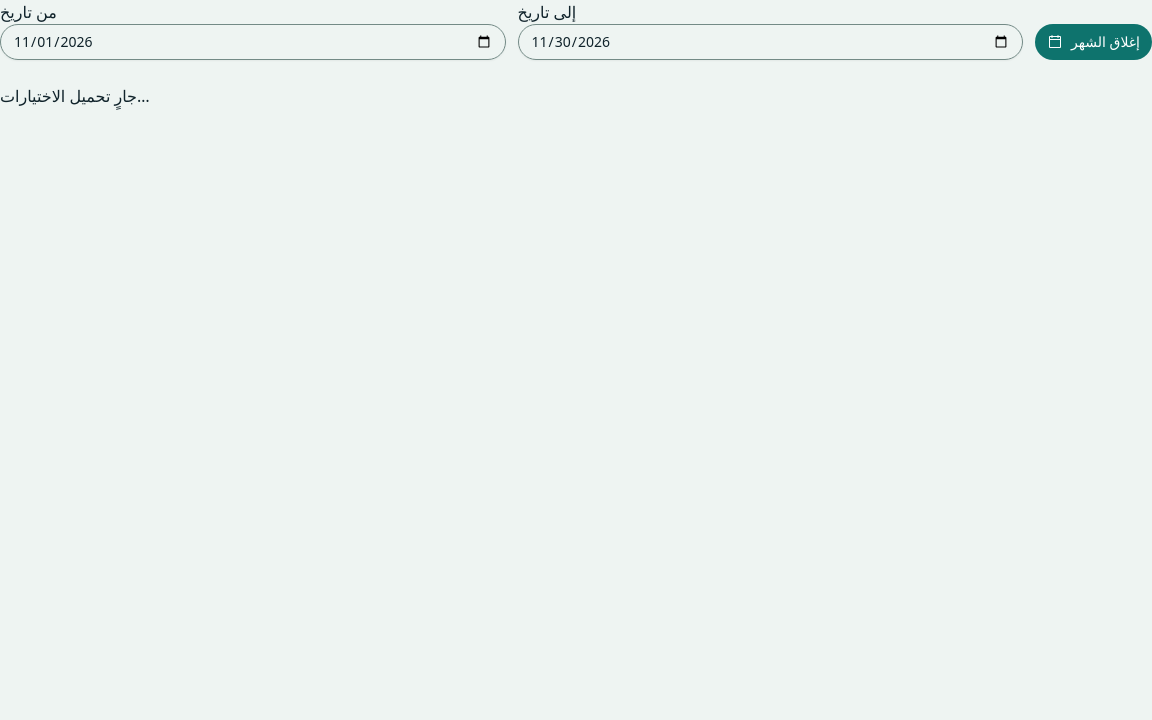
Test: closes an unfinished month only after typing the month and sends confirmUnfinishedMonth
Click the button "إغلاق الشهر". click: click(1094, 42)
box: [1035, 24, 1151, 60]
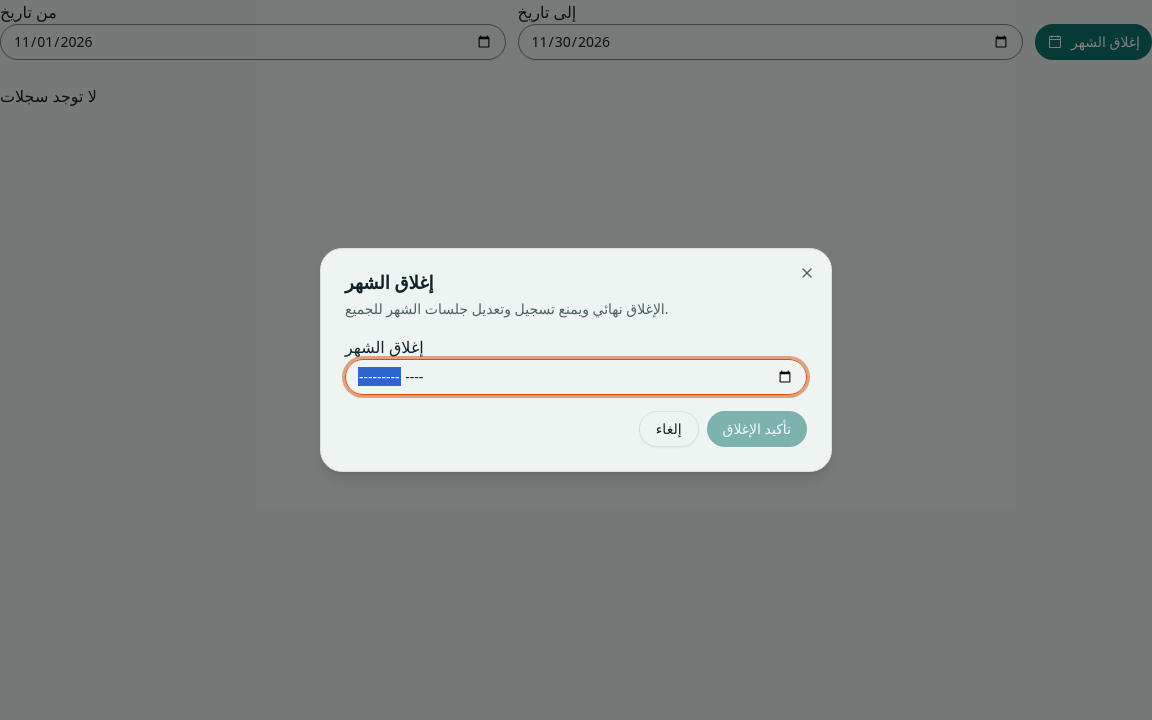
Type "2027-03" into the field labelled "إغلاق الشهر". click: (576, 377)
box: [345, 359, 807, 395]
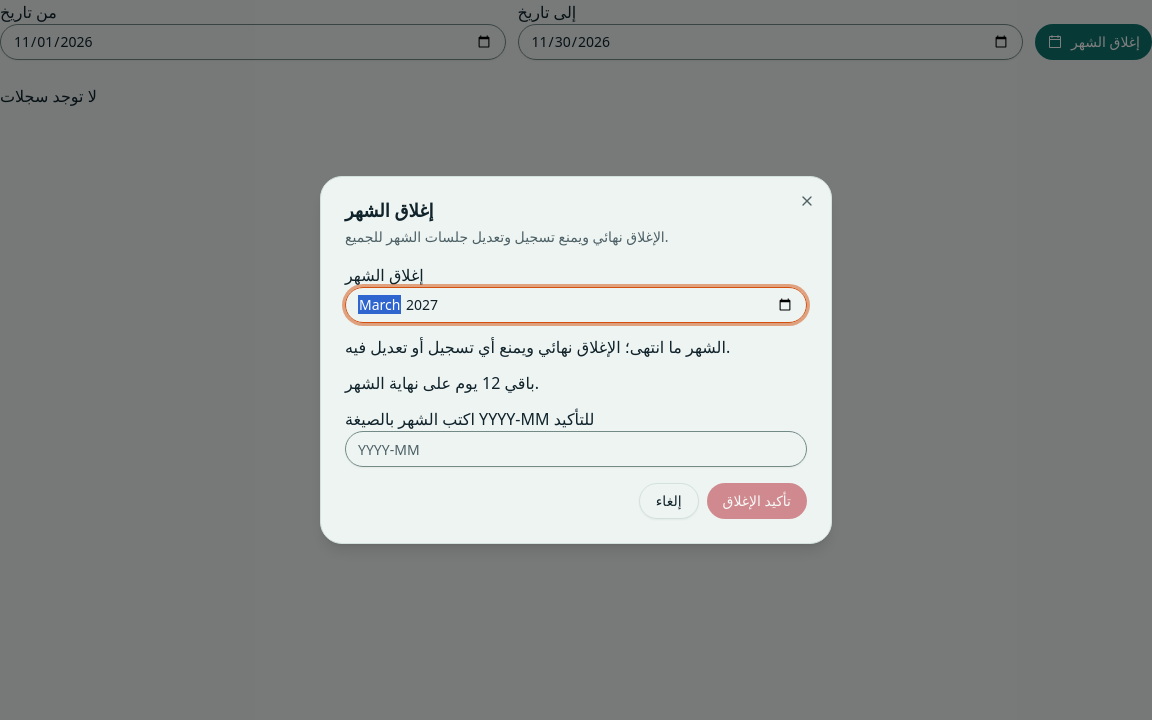
Check: the button "تأكيد الإغلاق" is disabled, box [706, 483, 807, 519]
Type "2027-03" into the field labelled "اكتب الشهر بالصيغة YYYY-MM للتأكيد". click: (576, 449)
box: [345, 431, 807, 467]
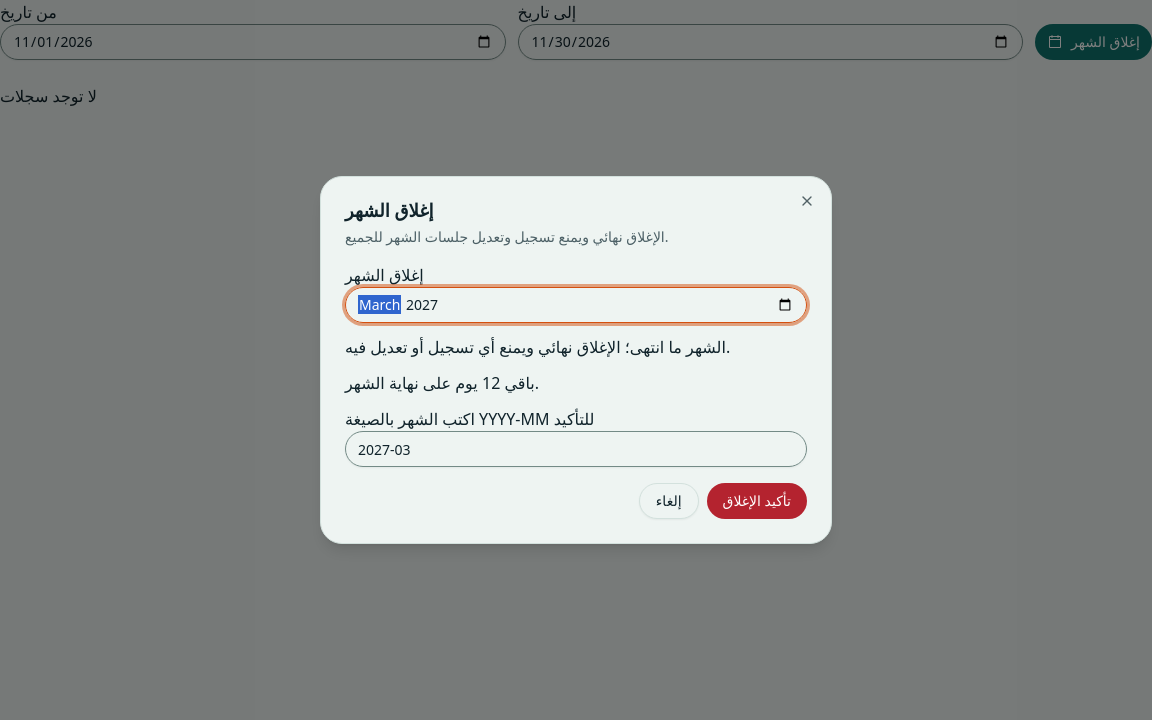
Check: the button "تأكيد الإغلاق" is enabled
Click the button "تأكيد الإغلاق". click: click(757, 501)
box: [706, 483, 807, 519]
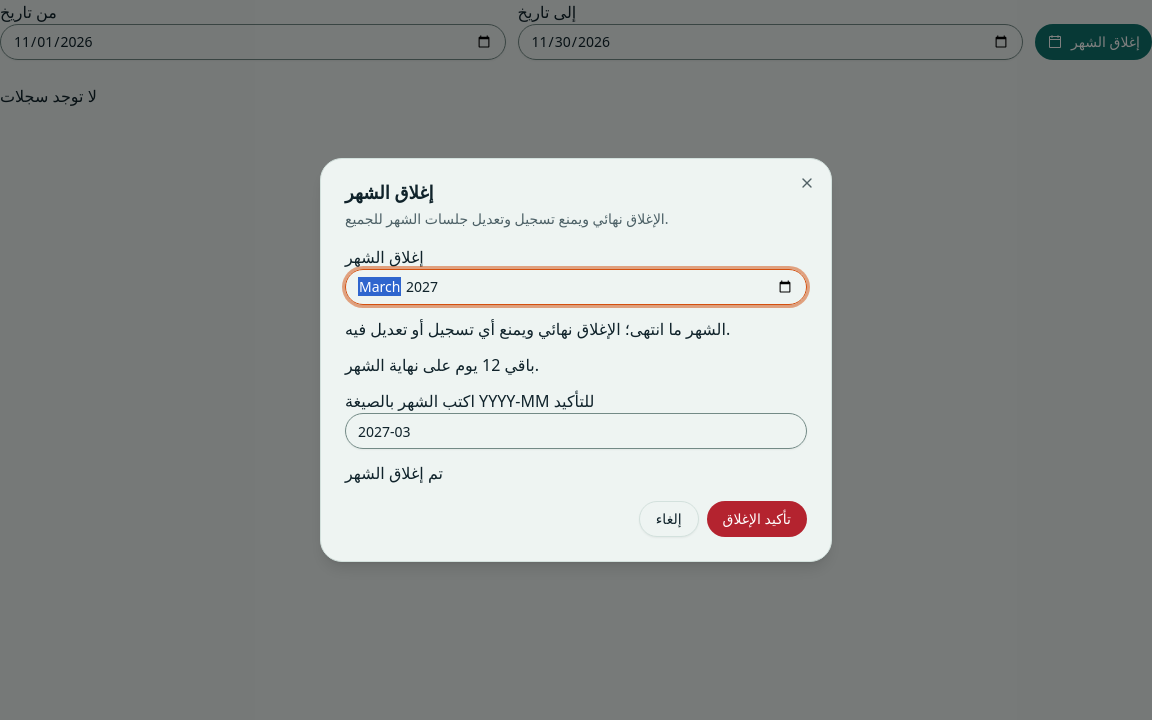
Check: the text "تم إغلاق الشهر" is shown, box [345, 462, 443, 484]
